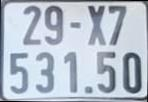-: (70, 20, 82, 30)
.: (84, 85, 93, 95)
0: (122, 51, 142, 94)
1: (63, 51, 78, 94)
2: (23, 5, 41, 46)
3: (34, 52, 55, 94)
5: (97, 50, 118, 94), (8, 51, 29, 94)
7: (108, 5, 128, 47)
9: (44, 6, 63, 44)
X: (87, 5, 107, 46)
